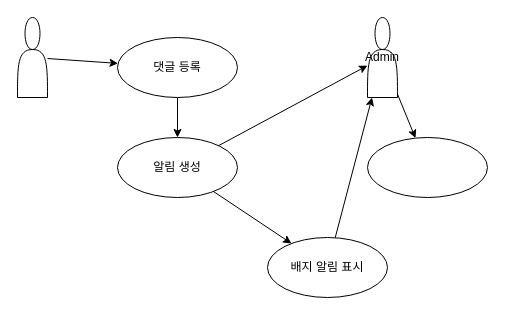
Image size: 505x315. Some labels were removed from this diagram. Each missing label, with the centre of its shape:
User: (x=32, y=57)
알림 확인: (x=427, y=167)
